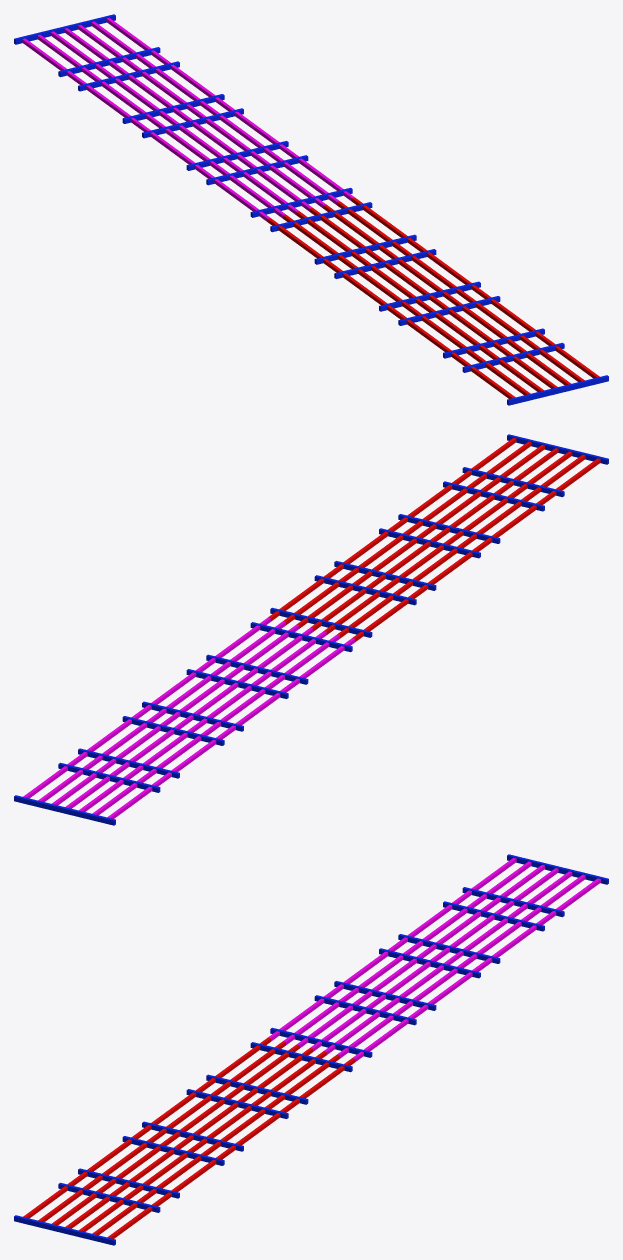
File: CoverWood.FBX
3 renders of one model, top to bottom at view 1: azimuth 30°, elevation 25°; view 2: azimuth 150°, elevation 25°; view 3: azimuth 330°, elevation 25°, orthographic.
Visible parts, largest first — view 1: CoverWood; view 2: CoverWood; view 3: CoverWood.
Part boxes in pixels (x1,y1,x2,y2): CoverWood: (14, 14, 608, 405); CoverWood: (14, 434, 608, 825); CoverWood: (14, 854, 608, 1245).
Bounding box in the file's own units: 825 × 38.21 × 7061.
